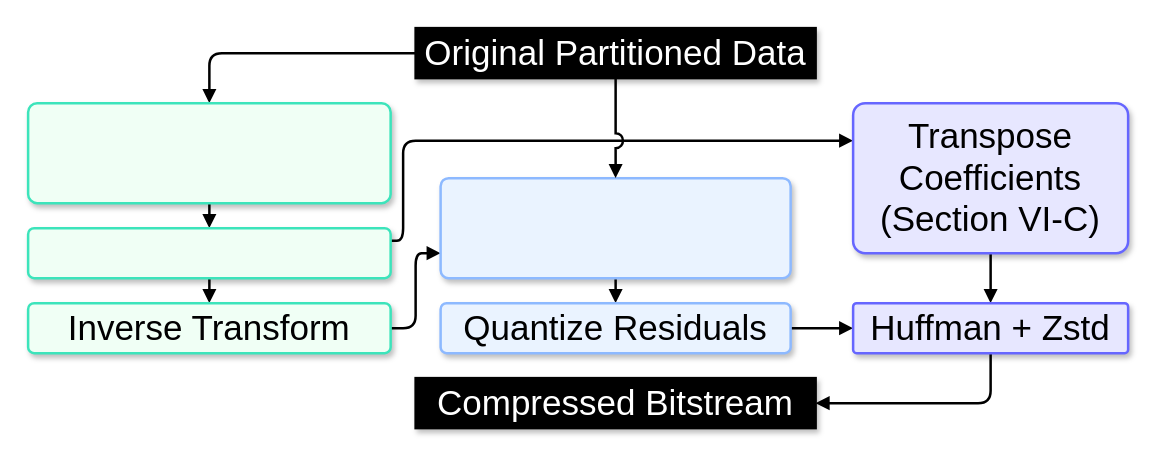
Some shapes in this 1158 by 459 pixel diagram are drawn without their labels. The shapes that lost their labels are listed below. From the top down, each one's centre as x and y in pixels, then its label:
the point at 210,154: Forward Transform (Section VI-B)
the point at 616,229: Subtract to Compute Residuals
the point at 210,254: Quantize Coefficients
